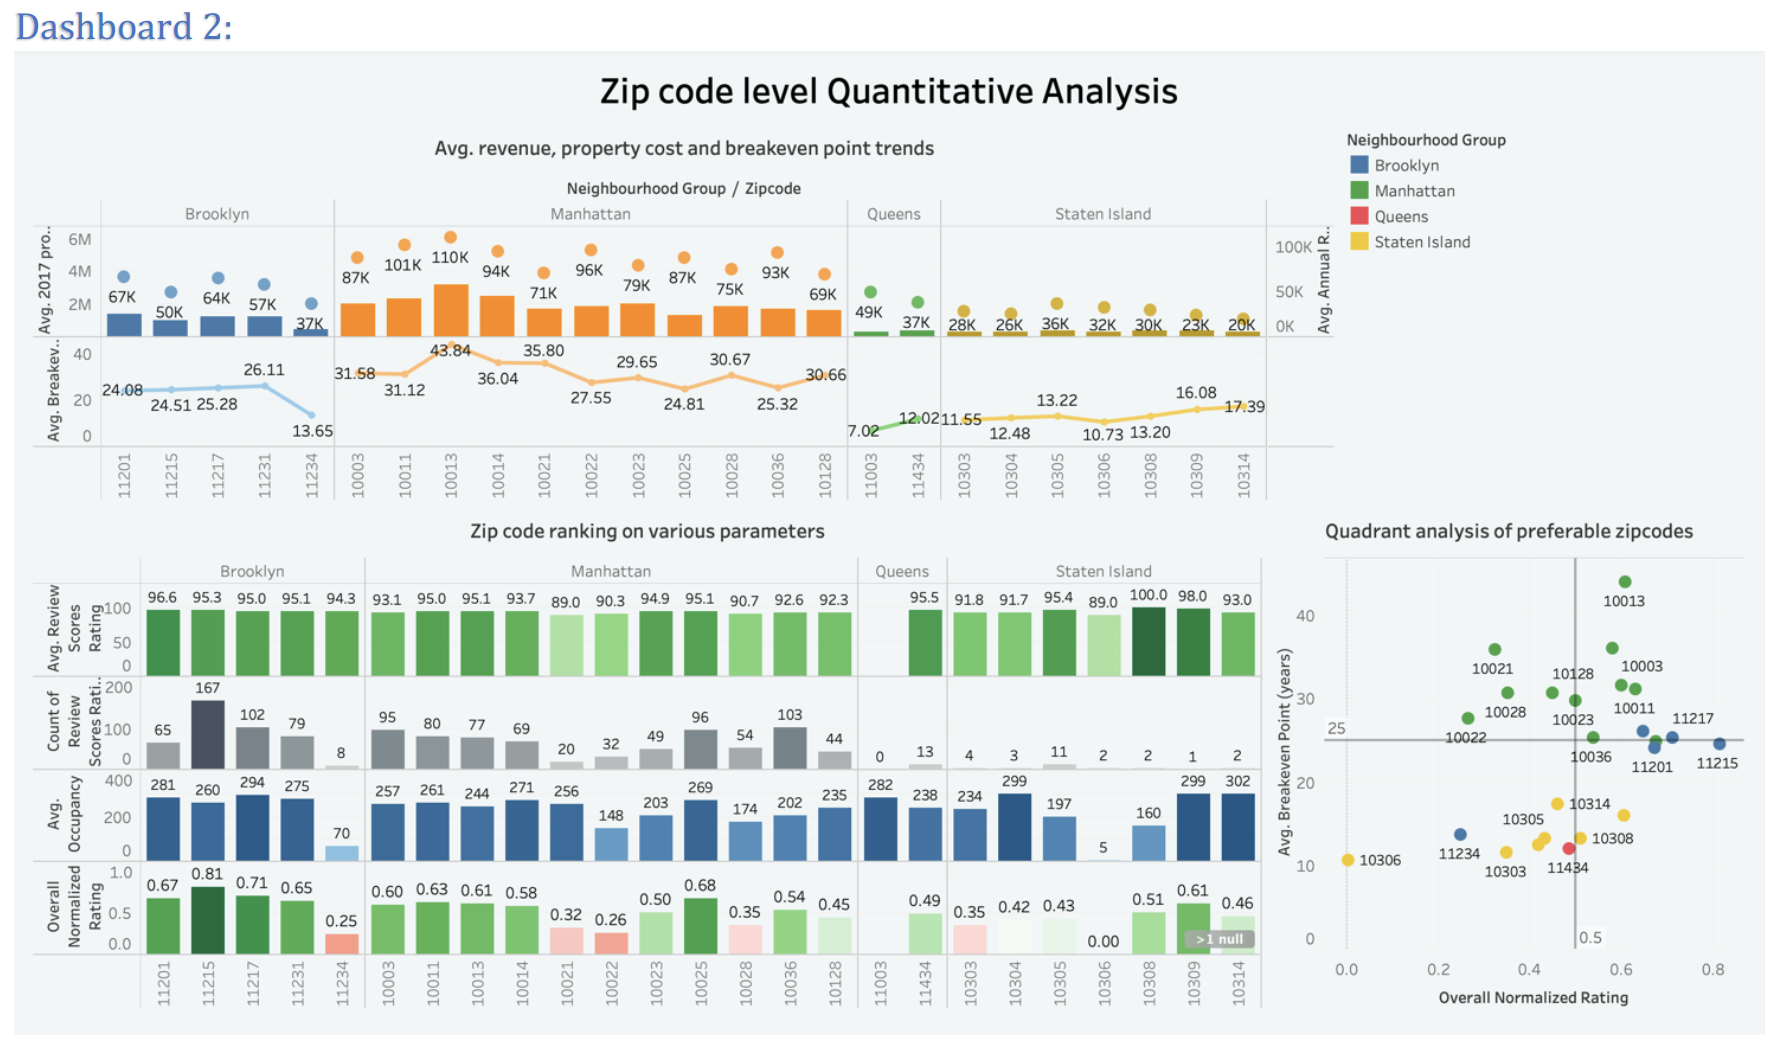

The dashboard page shown, as its layout file describes it:
{"tool":"tableau","page":{"name":"Quantitaive Analysis","canvas":[1366,768],"ordinal":1},"visuals":[{"type":"text","box":[8,8,1350,54]},{"type":"worksheet","title":"Cost, revenue & breakeven pt.","mark":"Bar","rows":["Median-2017","Calculation_75505673007251456","Calculation_75505673007898625"],"cols":["neighbourhood_group_cleansed","zipcode"],"box":[8,62,1029,300]},{"type":"legend","title":"Quadrants","param":"[federated.0udglg21pkgcfl18mvlbw0mtbvsc].[none:neighbourhood_group_cleansed:nk]","box":[1037,62,321,300]},{"type":"worksheet","title":"Ratings","mark":"Automatic","rows":["review_scores_rating","review_scores_rating","Calculation_75505673054937092","Calculation_75505674131738629"],"cols":["neighbourhood_group_cleansed","zipcode"],"box":[8,362,971,398]},{"type":"worksheet","title":"Quadrants","mark":"Circle","rows":["Calculation_75505673007898625"],"cols":["Calculation_75505674131738629"],"box":[979,362,379,398]}]}

Visuals, with their boxes on the page's 1366x768 design canvas (x1, y1, x2, y2). These are canvas units, not pixel positions in the 1778x1044 screenshot, which may show the page scaled, cropped or inside an application window:
text: <box>8,8,1358,62</box>
"Cost, revenue & breakeven pt." worksheet (Bar marks): <box>8,62,1037,362</box>
"Quadrants" legend: <box>1037,62,1358,362</box>
"Ratings" worksheet: <box>8,362,979,760</box>
"Quadrants" worksheet (Circle marks): <box>979,362,1358,760</box>
